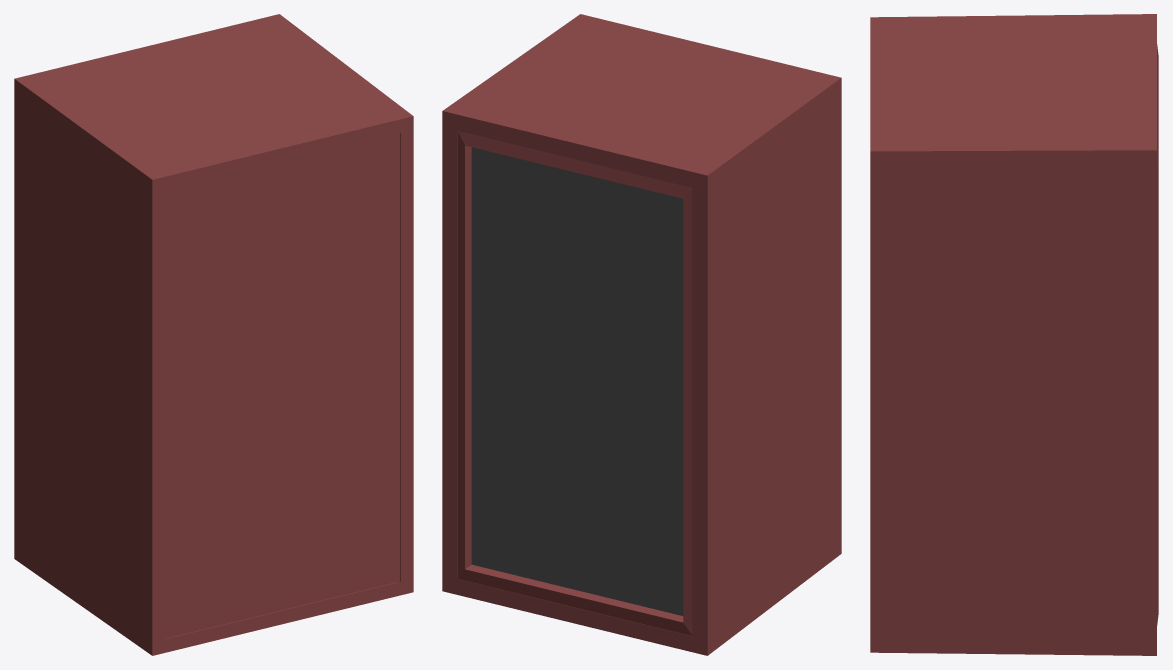
Rendered from kotak apar.fbx.
The picture shows the model from 3 angles, left to right: view 1: azimuth 30°, elevation 25°; view 2: azimuth 150°, elevation 25°; view 3: azimuth 270°, elevation 25°; orthographic projection. The views are drawn at different scales.
Parts seen in each view (by area): view 1: polySurface2; view 2: polySurface2, polySurface1; view 3: polySurface2, polySurface1.
Part boxes in pixels (box(x1,y1,x2,y2)): polySurface2: box(14, 14, 413, 655); polySurface2: box(442, 14, 841, 655); polySurface1: box(458, 131, 692, 635); polySurface2: box(870, 14, 1156, 655); polySurface1: box(1157, 44, 1158, 625).
Bounding box in the file's own units: 1.2 × 2.08 × 1.07.
